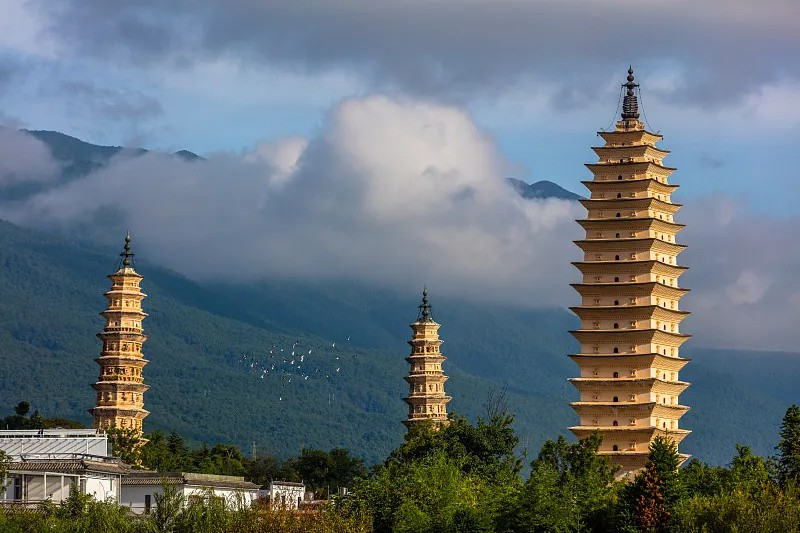ThreePagoda: (569, 64, 693, 478)
